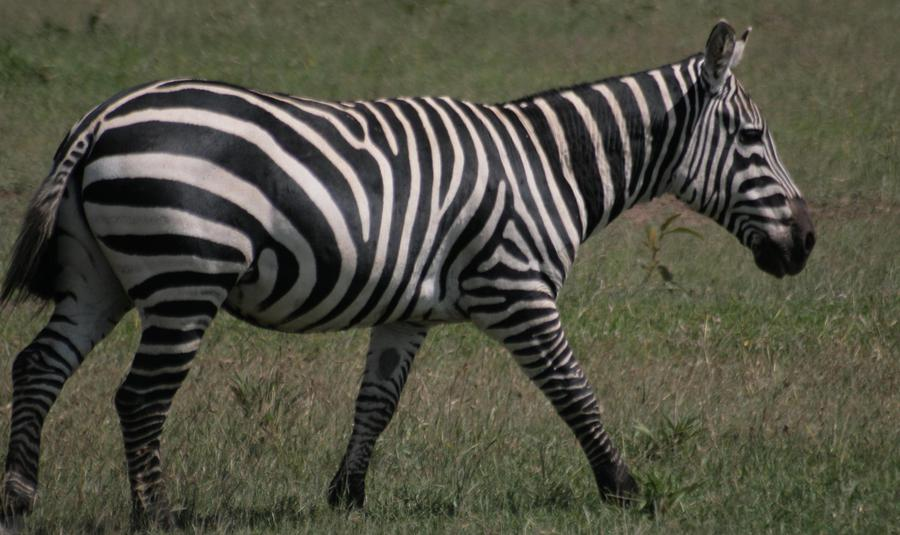zebra_plains: (122, 83, 590, 331)
